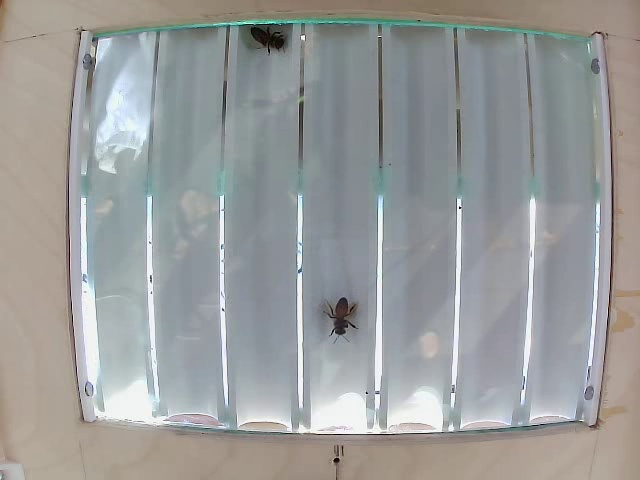bee: (323, 282, 358, 346), (248, 20, 294, 67)
